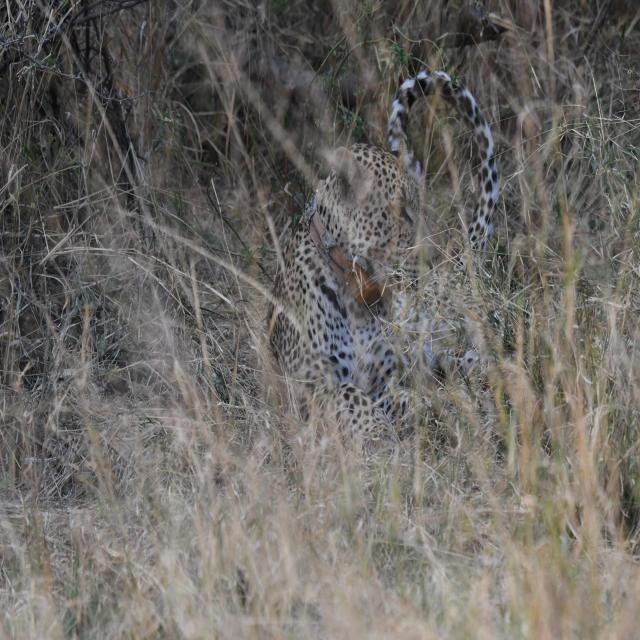Leopard: (256, 53, 490, 438)
